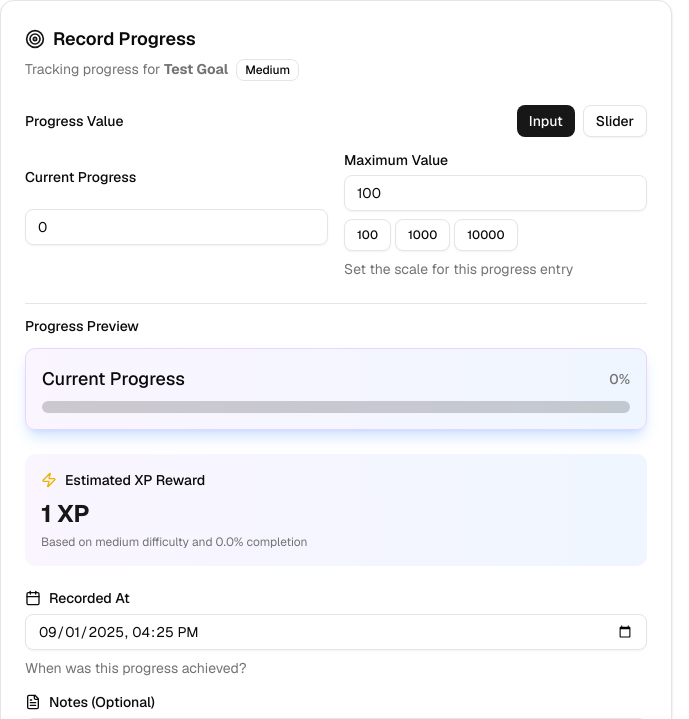
it: ProgressEntryForm › should update XP calculation when progress changes
# Change progress to 50
Type "50" into the number field labelled "Current Progress".
click(176, 227); type("50")  # box [25,209,328,245]
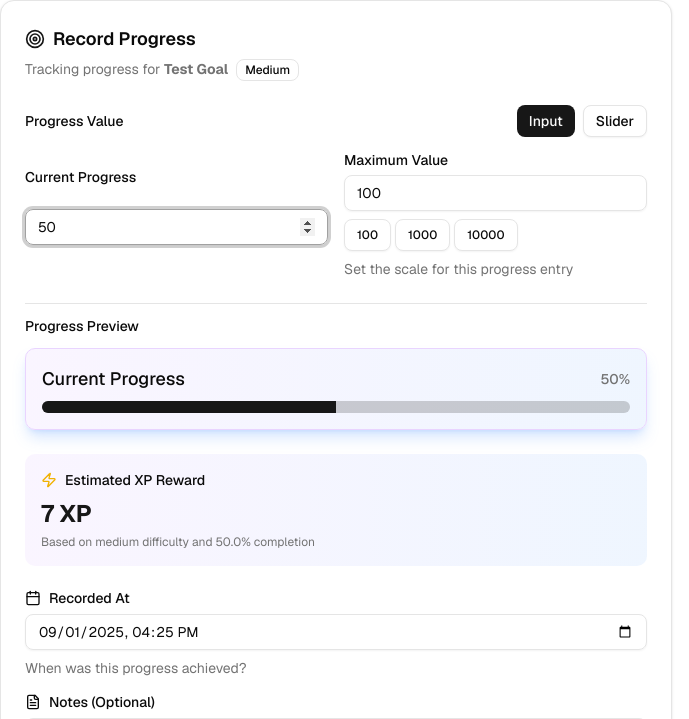
Check: the text "7 XP" is shown, box [41,498,92,530]
